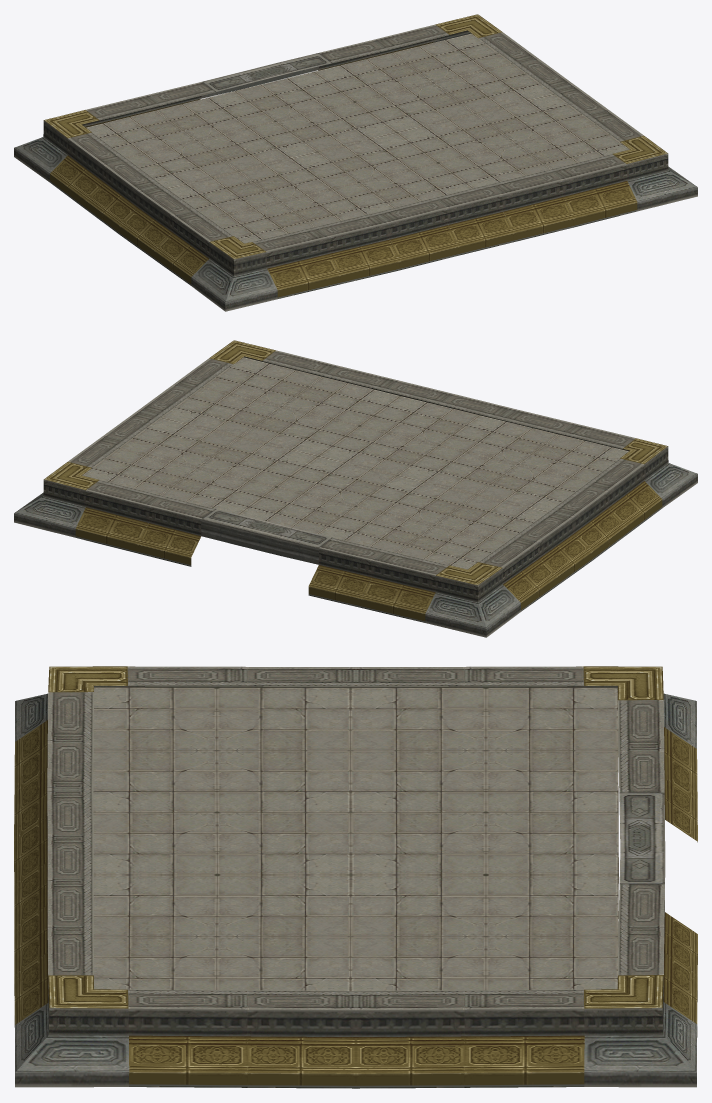
The model's file is Item_3001_dimianwujian_houchengloudimian.FBX.
The picture shows the model from 3 angles, top to bottom: view 1: azimuth 30°, elevation 25°; view 2: azimuth 150°, elevation 25°; view 3: azimuth 270°, elevation 25°; orthographic projection. The views are drawn at different scales.
Parts seen in each view (by area): view 1: Item_3001_dimianwujian_houchengloudimian; view 2: Item_3001_dimianwujian_houchengloudimian; view 3: Item_3001_dimianwujian_houchengloudimian.
Part boxes in pixels (x1=…): Item_3001_dimianwujian_houchengloudimian: x1=14, y1=14, x2=697, y2=311; Item_3001_dimianwujian_houchengloudimian: x1=14, y1=340, x2=697, y2=637; Item_3001_dimianwujian_houchengloudimian: x1=14, y1=666, x2=697, y2=1088.
Size of the model in its own units: 1616 by 133 by 1257.
